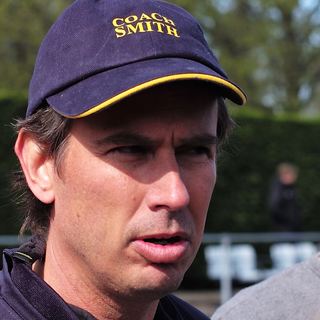eye: (102, 141, 154, 161), (171, 140, 212, 165)
